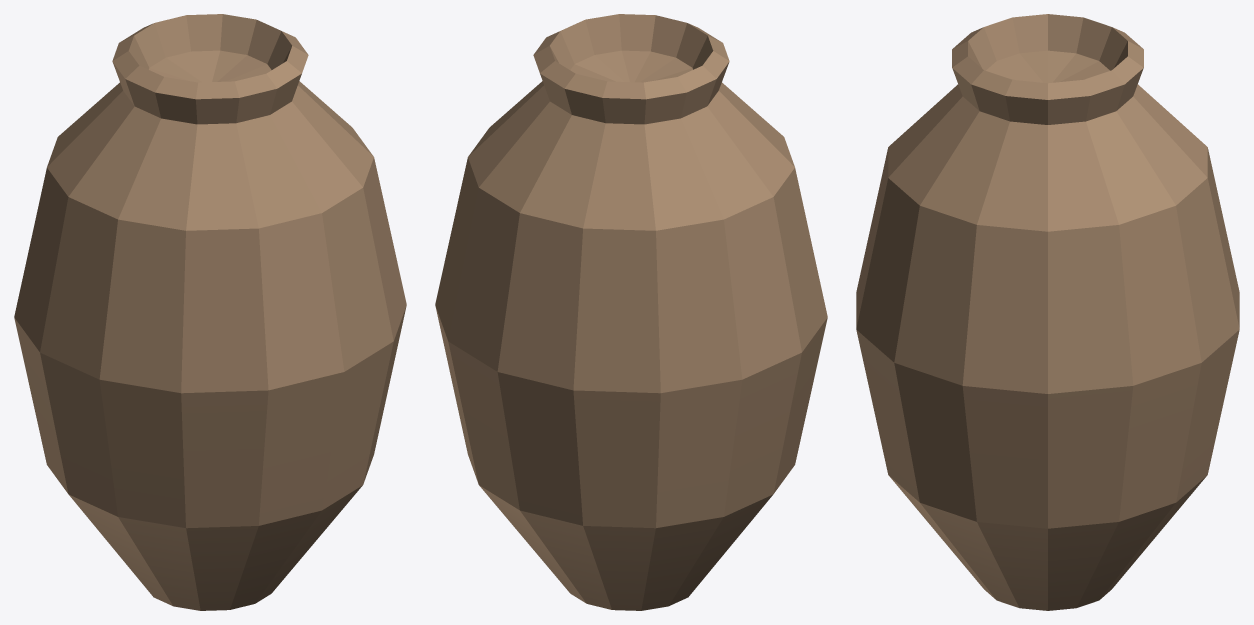
File: adb_jar.glb
3 renders of one model, left to right at view 1: azimuth 30°, elevation 25°; view 2: azimuth 150°, elevation 25°; view 3: azimuth 270°, elevation 25°, orthographic.
Parts seen in each view (by area): view 1: adb_jar; view 2: adb_jar; view 3: adb_jar.
Boxes of the visible parts, x1,y1,x2,y2 form: adb_jar: (14, 14, 406, 610); adb_jar: (435, 14, 827, 610); adb_jar: (856, 14, 1239, 610).
Bounding box in the file's own units: 0.72 × 1.08 × 0.7019.
